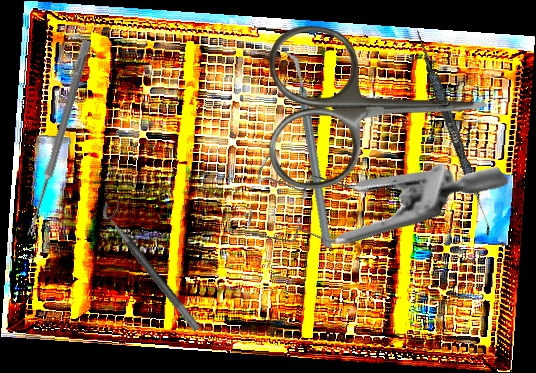Chopper: (241, 50, 375, 249)
Fixation Ring: (97, 196, 212, 333)
Iris Scissors: (269, 24, 488, 190)
Spatula Surgical: (409, 30, 499, 236)
Speculum: (219, 48, 510, 327)
Surgical Spoon: (25, 39, 92, 237)
